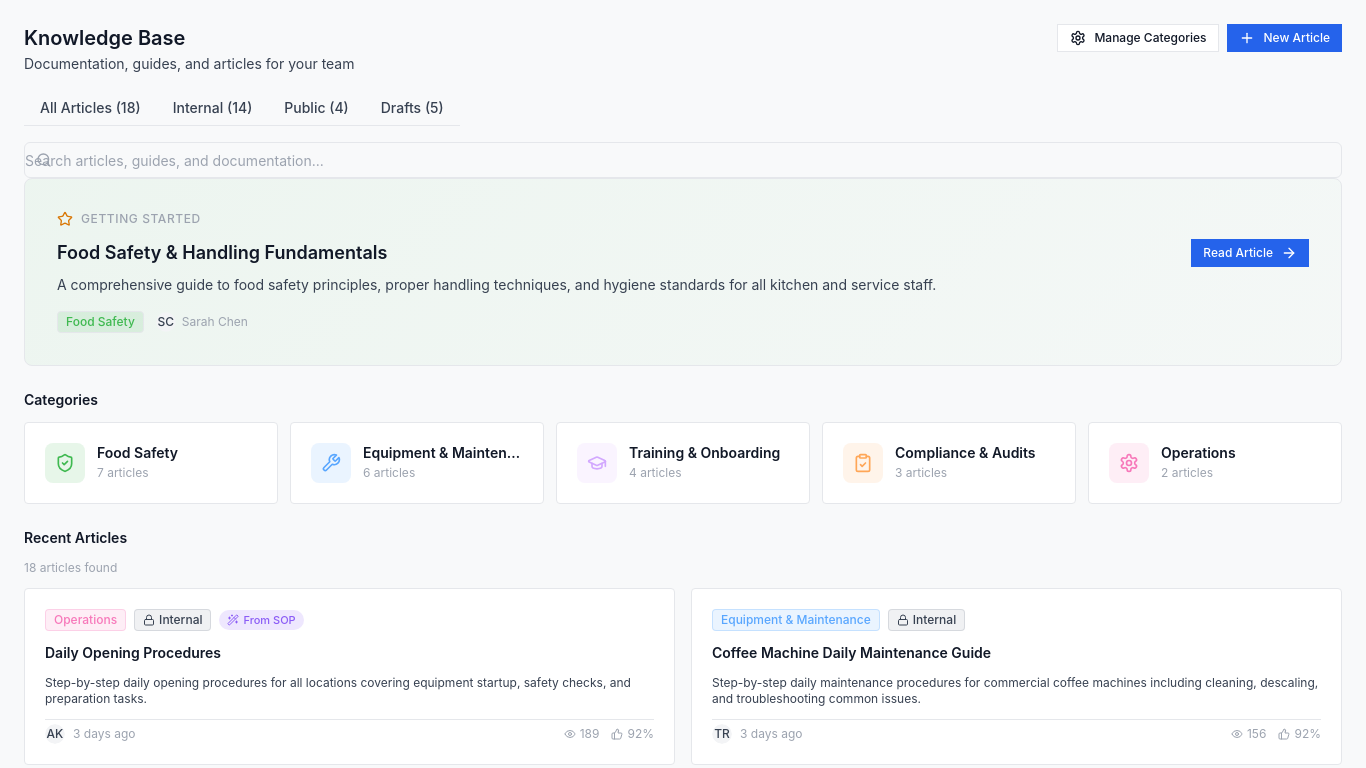
Test: KnowledgeBasePage › search filters articles and shows count
Type "Food Safety" into the search field with placeholder "Search articles, guides, and documentation..." at (683,160), box [24,142,1342,178]
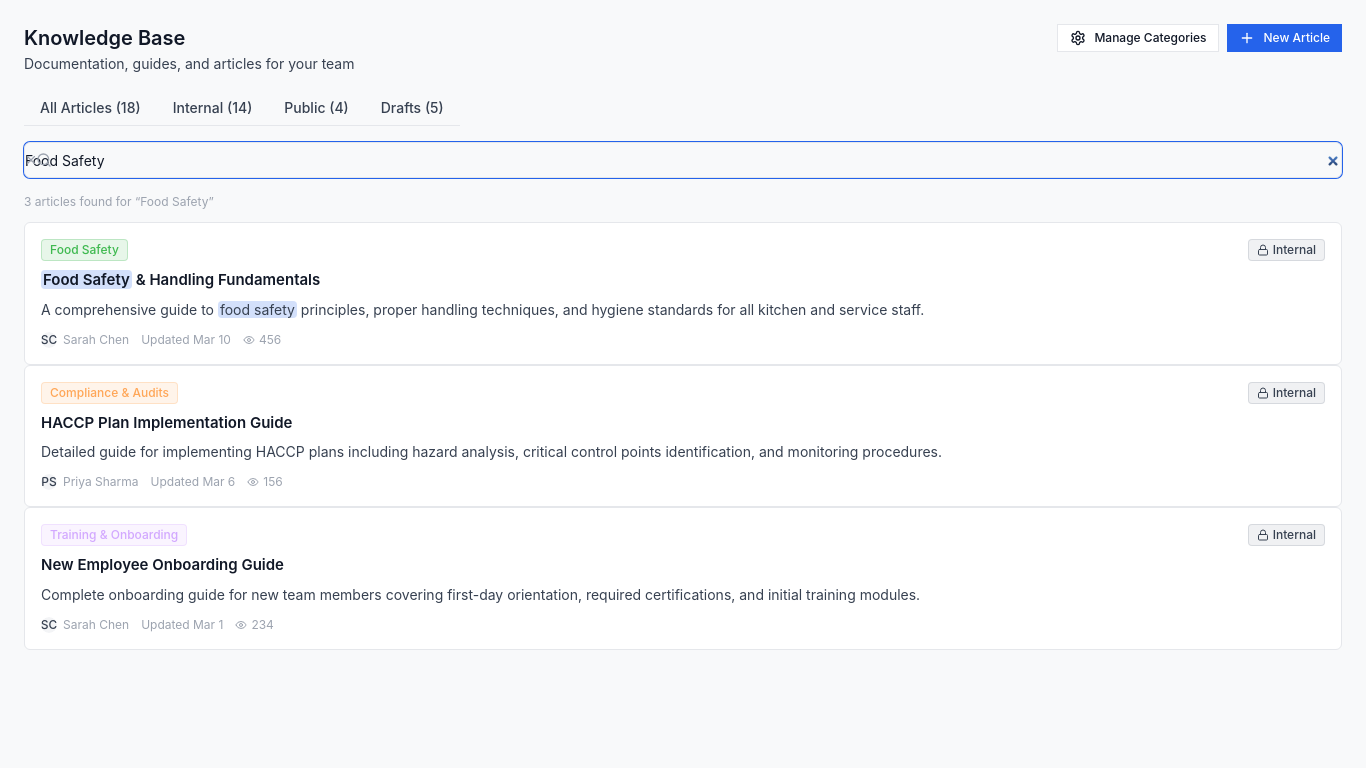
Expected: the text "3 articles found for “Food Safety”" is shown, [24,194,214,209]
